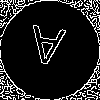A: (25, 25, 66, 75)
